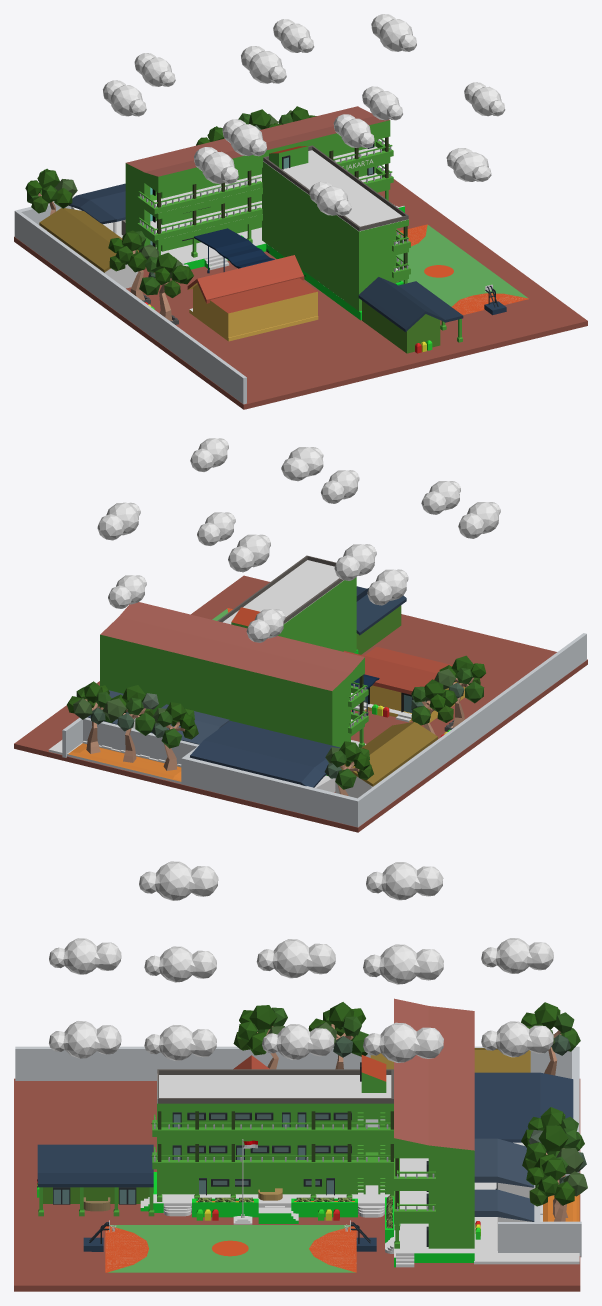
The model's file is sekolah 1.7.glb.
3 renders of one model, top to bottom at view 1: azimuth 30°, elevation 25°; view 2: azimuth 150°, elevation 25°; view 3: azimuth 270°, elevation 25°, orthographic. The views are drawn at different scales.
Parts seen in each view (by area): view 1: Plane, Plane.002, bangunan lantai 2.003, Plane.001, ruang ukas dan ruang osis, bangunan lantai 2.002, Cube.047, bangunan lantai 2, bangunan lantai 2.001, Cube.006, bangunan lantai satu, bangunan lantai 1 (+16 smaller); view 2: Plane.001, bangunan lantai 2.003, Plane, bangunan lantai 2, Plane.002, bangunan lantai 2.002, ruang ukas dan ruang osis, Cube.006, Cube.047, Cube.008, bangunan lantai 2.001, Sphere.011 (+14 smaller); view 3: Plane, Plane.001, Plane.002, bangunan lantai 2.003, bangunan lantai 2.002, lantai.001, bangunan lantai 2.001, Cube.047, bangunan lantai satu, Cube.008, pembatas rooftop, Cube.007 (+18 smaller).
Boxes of the visible parts, x1=… form: Plane: x1=15, y1=179, x2=587, y2=404; Plane.002: x1=14, y1=179, x2=587, y2=409; bangunan lantai 2.003: x1=125, y1=106, x2=393, y2=214; Plane.001: x1=14, y1=183, x2=246, y2=404; ruang ukas dan ruang osis: x1=187, y1=255, x2=318, y2=341; bangunan lantai 2.002: x1=138, y1=138, x2=410, y2=258; Cube.047: x1=358, y1=277, x2=463, y2=353; bangunan lantai 2: x1=125, y1=146, x2=393, y2=240; bangunan lantai 2.001: x1=138, y1=165, x2=410, y2=284; Cube.006: x1=39, y1=208, x2=138, y2=288; bangunan lantai satu: x1=262, y1=215, x2=408, y2=311; bangunan lantai 1: x1=125, y1=173, x2=390, y2=257; Plane.001: x1=62, y1=633, x2=586, y2=827; bangunan lantai 2.003: x1=100, y1=602, x2=368, y2=717; Plane: x1=14, y1=575, x2=587, y2=827; bangunan lantai 2: x1=100, y1=661, x2=368, y2=743; Plane.002: x1=14, y1=576, x2=587, y2=832; bangunan lantai 2.002: x1=223, y1=560, x2=367, y2=700; ruang ukas dan ruang osis: x1=343, y1=646, x2=465, y2=722; Cube.006: x1=327, y1=722, x2=437, y2=798; Cube.047: x1=356, y1=586, x2=406, y2=654; Cube.008: x1=48, y1=740, x2=335, y2=792; bangunan lantai 2.001: x1=298, y1=598, x2=367, y2=727; Sphere.011: x1=228, y1=534, x2=270, y2=572; Plane: x1=14, y1=1078, x2=580, y2=1285; Plane.001: x1=15, y1=1046, x2=581, y2=1257; Plane.002: x1=14, y1=1080, x2=580, y2=1291; bangunan lantai 2.003: x1=394, y1=998, x2=474, y2=1185; bangunan lantai 2.002: x1=151, y1=1074, x2=435, y2=1178; lantai.001: x1=140, y1=1172, x2=474, y2=1267; bangunan lantai 2.001: x1=151, y1=1119, x2=435, y2=1210; Cube.047: x1=37, y1=1144, x2=153, y2=1203; bangunan lantai satu: x1=157, y1=1152, x2=393, y2=1201; Cube.008: x1=474, y1=1142, x2=579, y2=1264; pembatas rooftop: x1=157, y1=1069, x2=393, y2=1103; Cube.007: x1=474, y1=1138, x2=534, y2=1198.
Bounding box in the file's own units: 26.69 × 14.8 × 31.3.
Materials: 101 (9 with a texture image).
